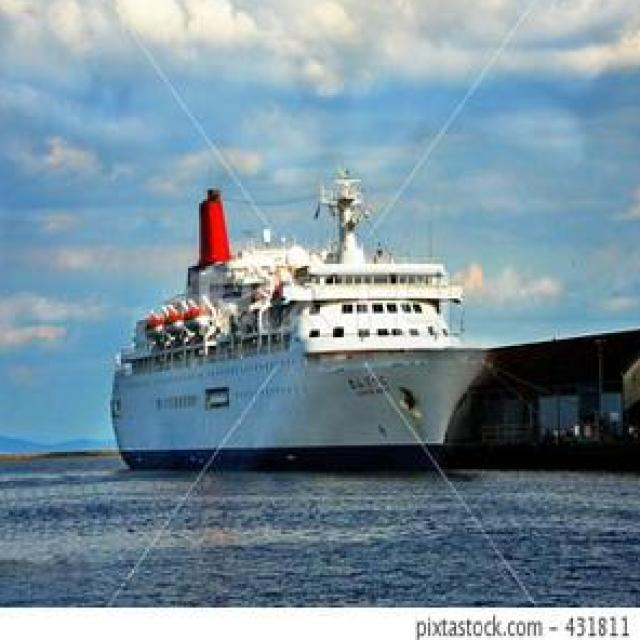cargoship: (107, 221, 474, 473)
